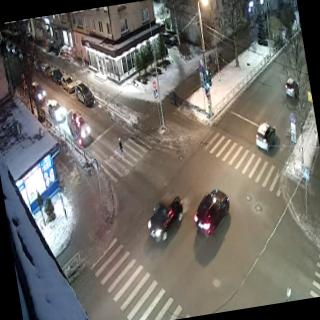small-vehicle: (188, 184, 236, 242), (142, 186, 188, 243), (251, 120, 282, 156), (64, 107, 92, 145), (282, 70, 302, 100), (28, 77, 48, 106), (74, 80, 94, 106), (46, 96, 65, 122), (61, 70, 76, 93), (38, 58, 52, 78), (51, 64, 63, 86)
